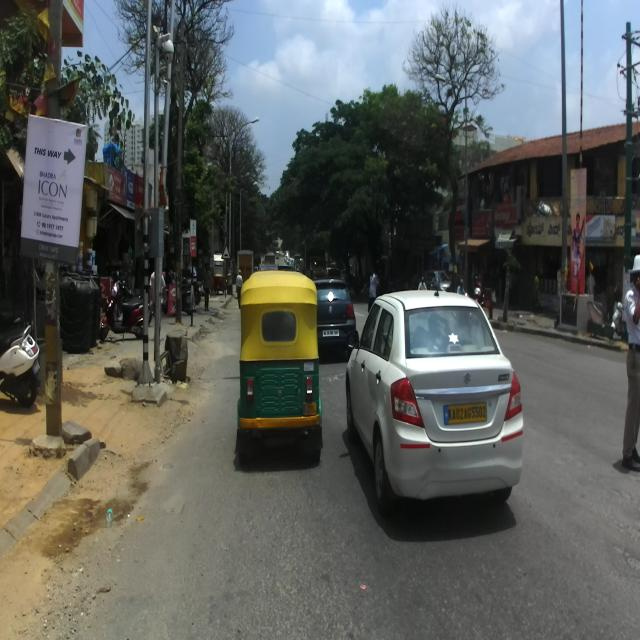auto ahead at: (241, 275, 321, 465)
car ahead at: (349, 281, 528, 503)
electric pole ahead at: (130, 0, 170, 384)
